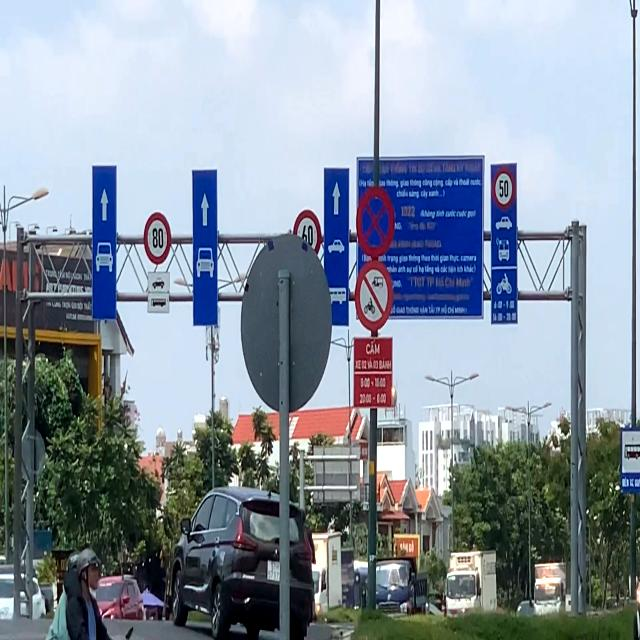P.127: (142, 210, 172, 265)
P.130: (355, 184, 396, 259)
